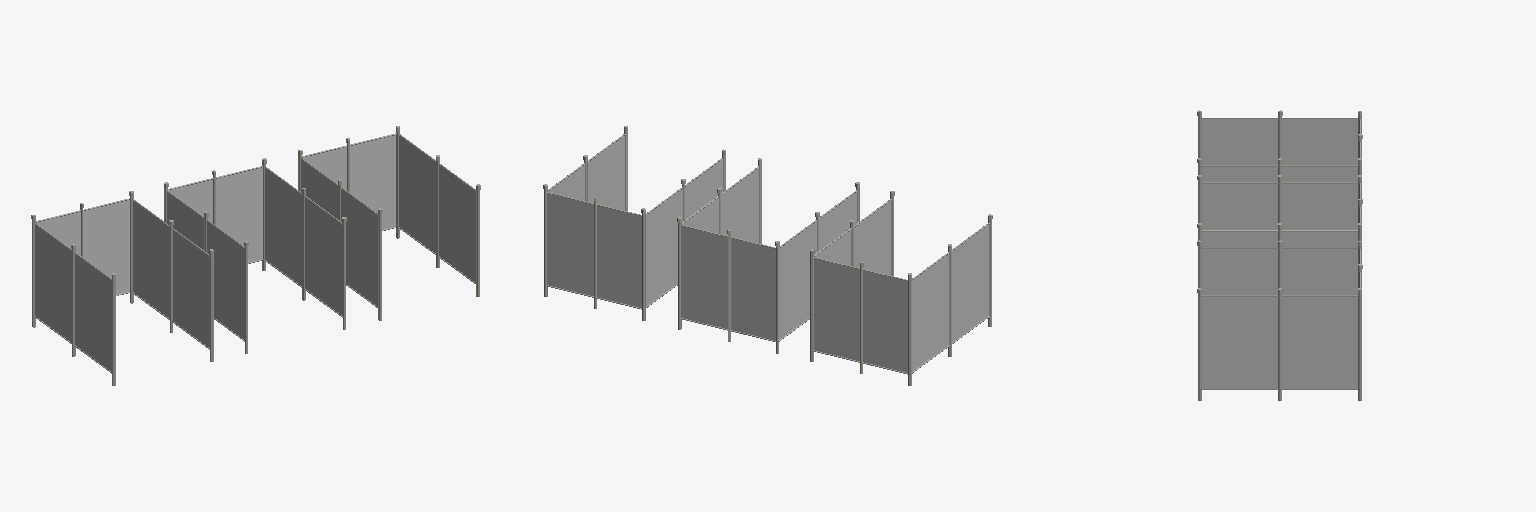
The picture shows the model from 3 angles: view 1: azimuth 30°, elevation 25°; view 2: azimuth 150°, elevation 25°; view 3: azimuth 270°, elevation 25°; orthographic projection.
Parts seen in each view (by area): view 1: cerca.003, cerca.007, cerca.004, cerca.001, cerca.006, cerca, cerca.002, cerca.005, cerca.008; view 2: cerca.002, cerca.008, cerca.005, cerca.003, cerca.006, cerca, cerca.004, cerca.001, cerca.007; view 3: cerca.007, cerca, cerca.003, cerca.006, cerca.001, cerca.004.
Part boxes in pixels (x1,y1,x2,y2): cerca.003: (31,215,115,385); cerca.007: (396,126,480,296); cerca.004: (129,191,213,361); cerca.001: (262,158,346,329); cerca.006: (298,150,382,320); cerca: (164,182,248,353); cerca.002: (168,166,262,263); cerca.005: (36,198,130,295); cerca.008: (302,133,396,230); cerca.002: (681,225,775,341); cerca.008: (547,192,641,309); cerca.005: (813,257,907,374); cerca.003: (908,214,992,385); cerca.006: (641,149,725,320); cerca: (775,182,859,353); cerca.004: (810,191,894,361); cerca.001: (677,158,761,329); cerca.007: (543,126,627,296); cerca.007: (1197,288,1361,400); cerca: (1197,175,1361,229); cerca.003: (1197,110,1361,164); cerca.006: (1197,240,1361,294); cerca.001: (1197,223,1361,247); cerca.004: (1197,158,1361,181).
Bounding box in the file's own units: 168 × 48.35 × 65.1.
2 materials, 1 textured.